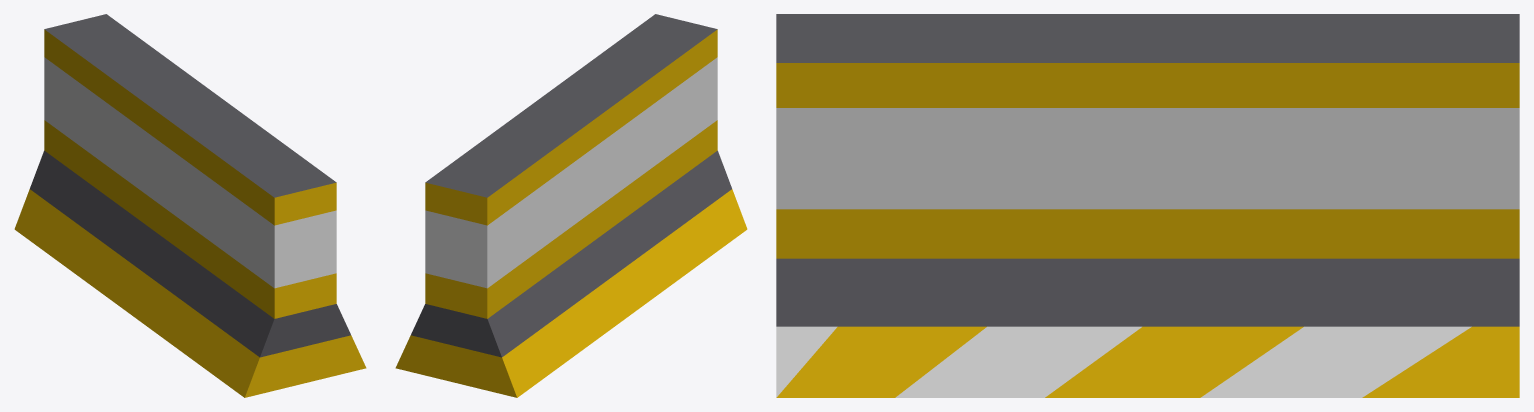
Rendered from obs-5.fbx.
3 renders of one model, left to right at view 1: azimuth 30°, elevation 25°; view 2: azimuth 150°, elevation 25°; view 3: azimuth 270°, elevation 25°, orthographic. The views are drawn at different scales.
Visible parts, largest first — view 1: Cube; view 2: Cube; view 3: Cube.
Boxes of the visible parts, x1=… form: Cube: x1=14, y1=14, x2=366, y2=397; Cube: x1=395, y1=14, x2=747, y2=397; Cube: x1=776, y1=14, x2=1519, y2=397.
Bounding box in the file's own units: 63.6 × 96.23 × 208.
